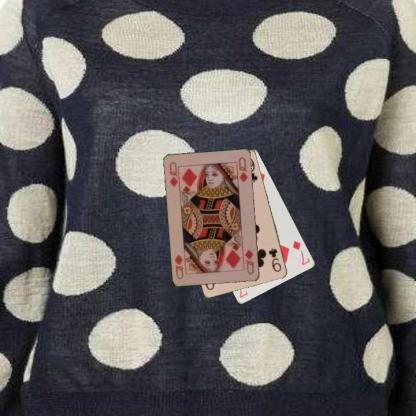7d: (290, 238, 311, 266)
9c: (266, 246, 282, 273)
Qd: (167, 160, 181, 190), (243, 247, 256, 276)
